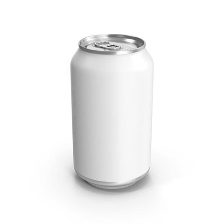can: (65, 26, 159, 196)
